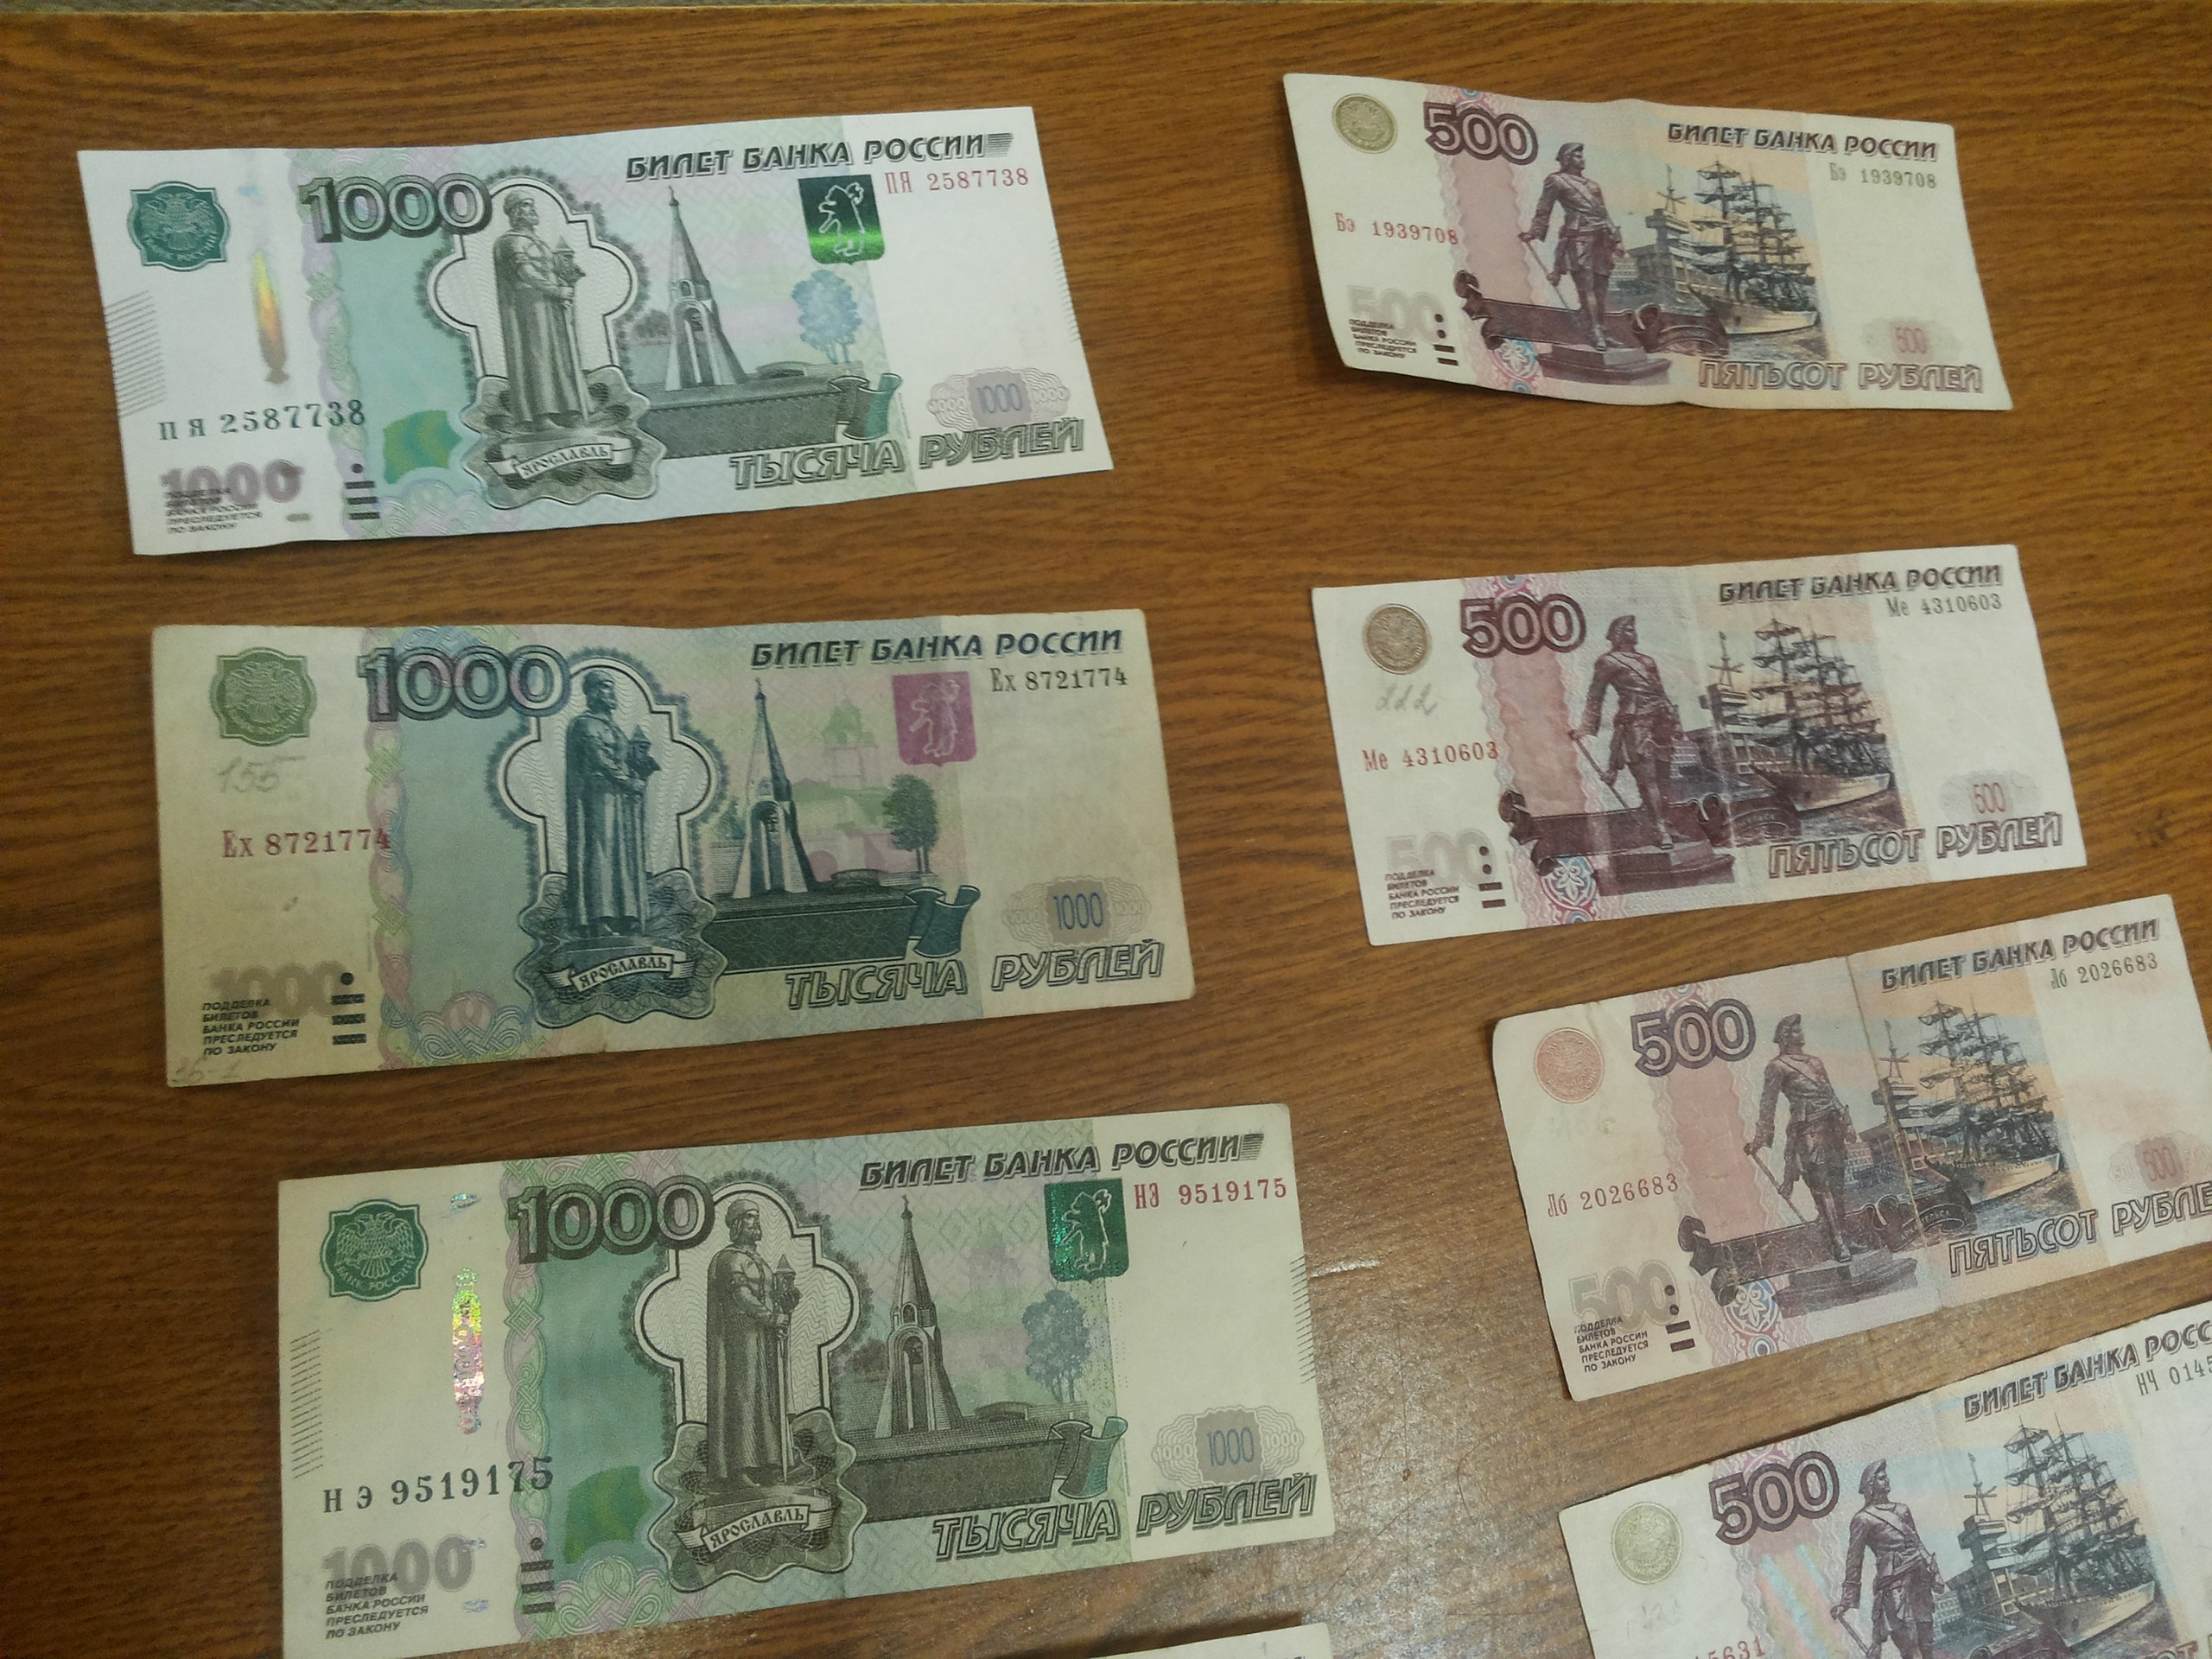cash: (277, 1101, 1338, 1659), (150, 608, 1198, 1086), (75, 101, 1116, 556), (1493, 892, 2212, 1405), (1306, 544, 2087, 948), (1280, 75, 2010, 415), (1559, 1295, 2212, 1659)
